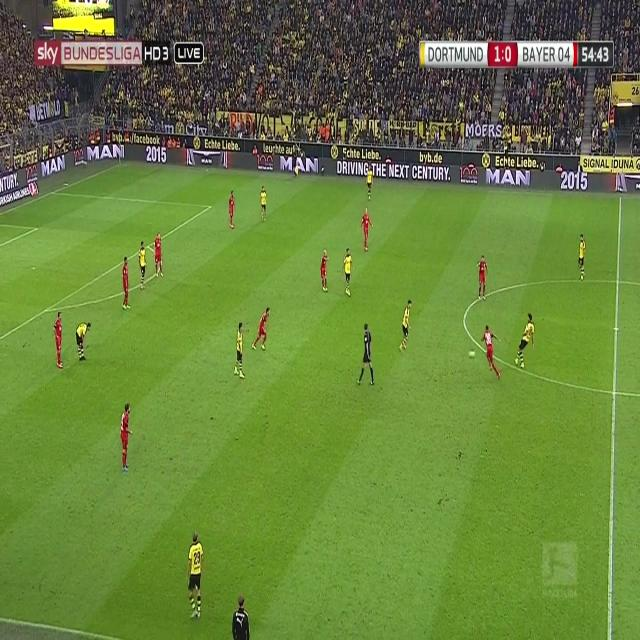Ball: (466, 346, 478, 364)
Player: (184, 531, 207, 621), (479, 324, 506, 381), (513, 312, 535, 371), (249, 303, 274, 352), (396, 301, 414, 359), (50, 308, 66, 372), (120, 403, 134, 473), (73, 318, 93, 366), (151, 230, 167, 283), (233, 319, 246, 384), (474, 254, 490, 302), (342, 246, 355, 300), (120, 256, 132, 314), (358, 206, 373, 251), (136, 236, 148, 292), (226, 187, 238, 232), (577, 232, 587, 283), (363, 163, 375, 202), (320, 245, 329, 296), (259, 184, 269, 222)
Referee: (355, 321, 378, 388)
